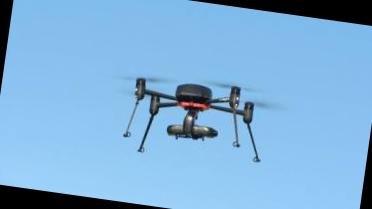drone: (92, 58, 282, 144)
